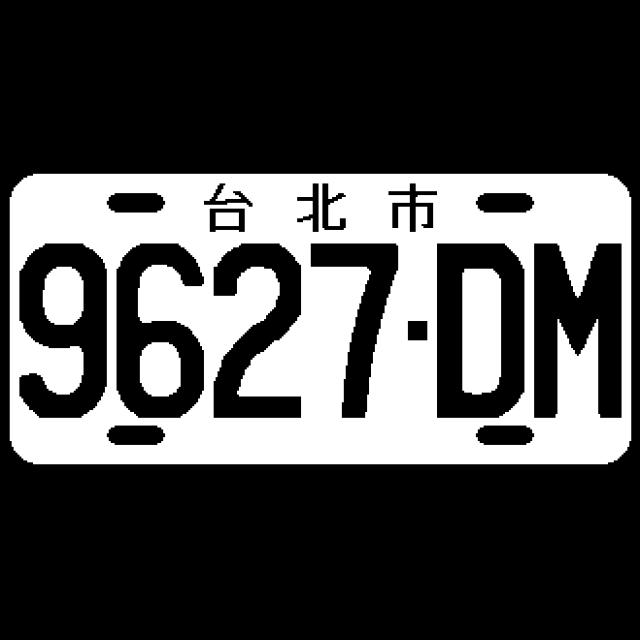plate: (8, 172, 634, 468)
